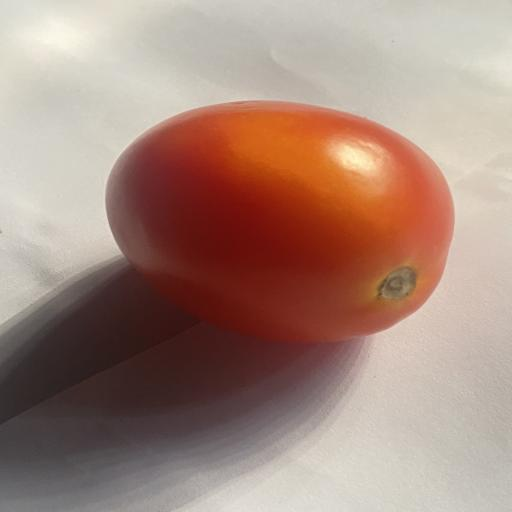ripe: (107, 101, 454, 342)
